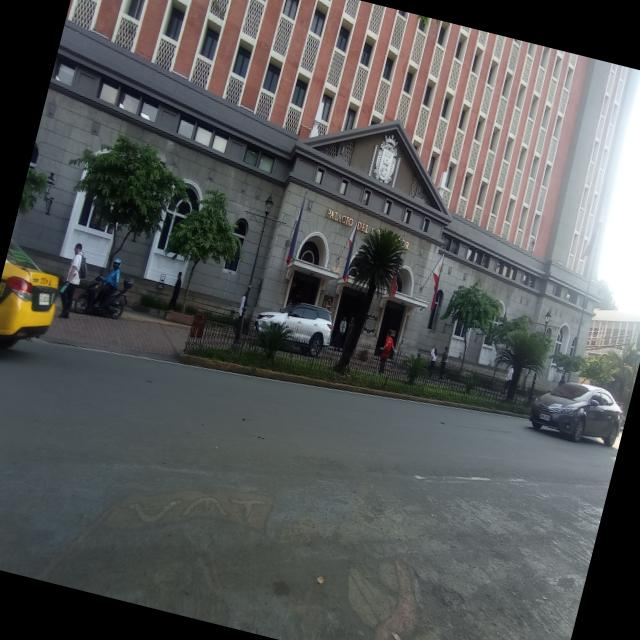Palacio de Gobernador: (14, 0, 640, 412)
